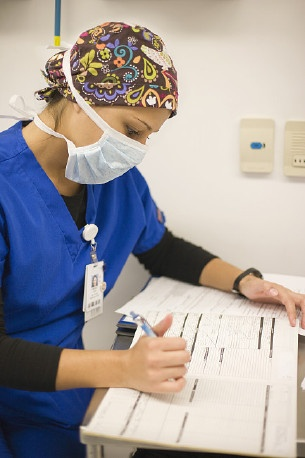Mask: (59, 93, 152, 186)
